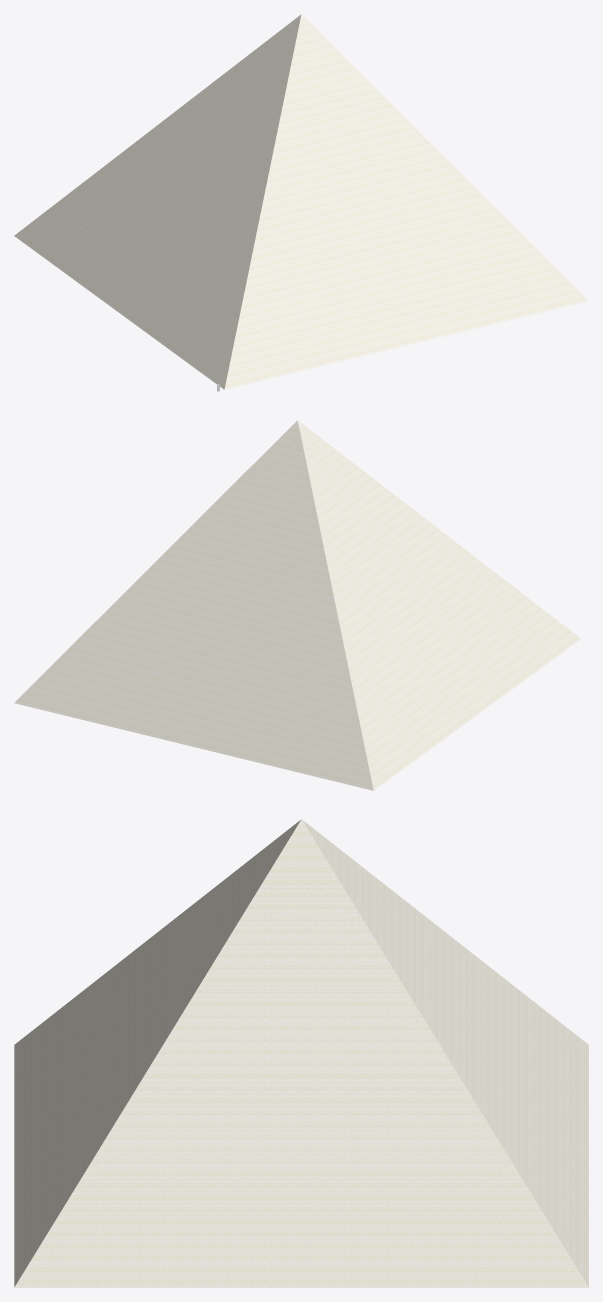
File: Merenre_Pyramid.glb
The picture shows the model from 3 angles, top to bottom: view 1: azimuth 30°, elevation 25°; view 2: azimuth 150°, elevation 25°; view 3: azimuth 270°, elevation 25°; orthographic projection. The views are drawn at different scales.
Visible parts, largest first — view 1: Mesh1 Model; view 2: Mesh1 Model; view 3: Mesh1 Model.
Boxes of the visible parts, x1,y1,x2,y2 form: Mesh1 Model: (14, 14, 588, 389); Mesh1 Model: (14, 420, 580, 790); Mesh1 Model: (14, 819, 588, 1287).
Bounding box in the file's own units: 80.4 × 52.5 × 78.78.
Materials: 4 (2 with a texture image).
